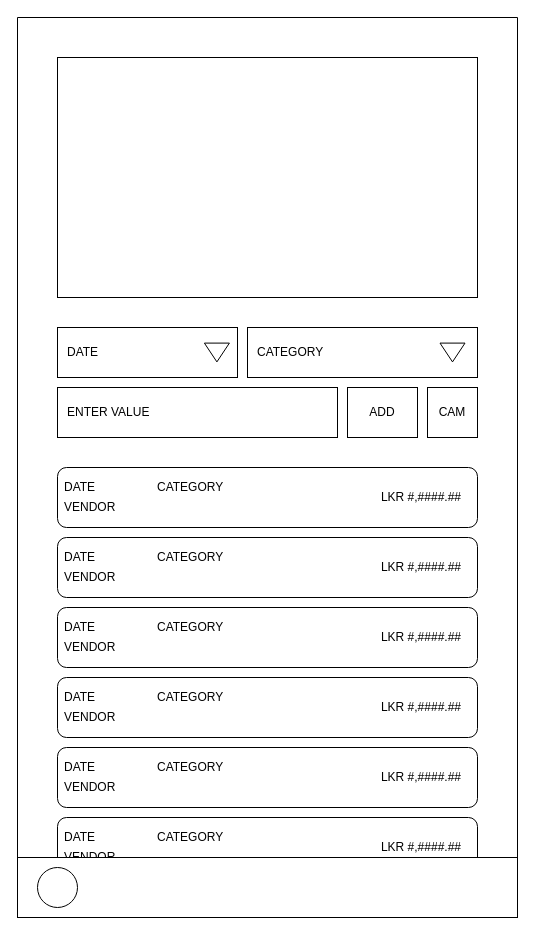
This 535x935 diagram has some shape labels left out. The shapes that lost their labels are listed below. From the top down, each one's box as (x1, y1, x2, y2) in pixels, then its label:
(56, 56, 478, 298): GRAPH
(16, 856, 518, 918): MENU
